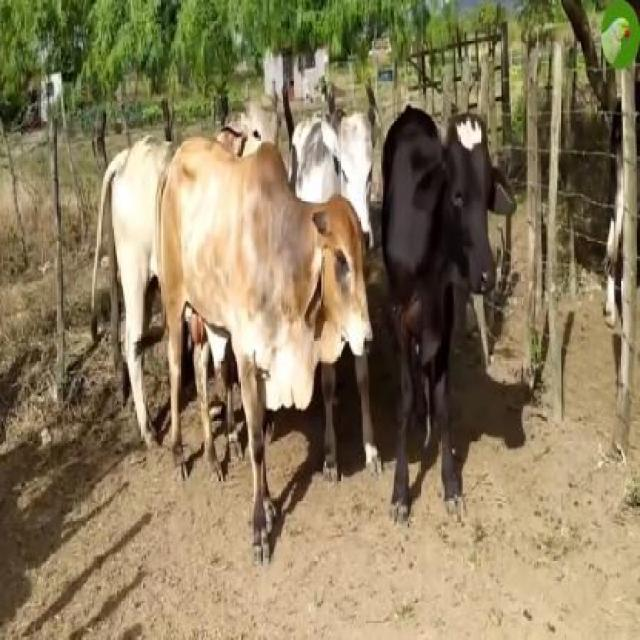Cow: (157, 138, 372, 572), (381, 106, 497, 523), (289, 111, 385, 238)
